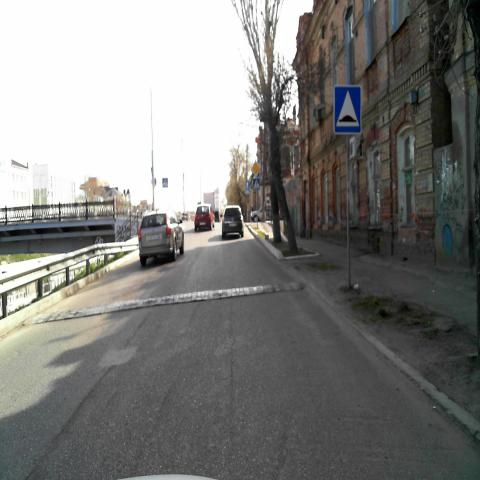2_1: (251, 161, 260, 175)
5_19_1: (254, 178, 260, 188), (162, 177, 168, 187)
5_20: (334, 85, 362, 135)
